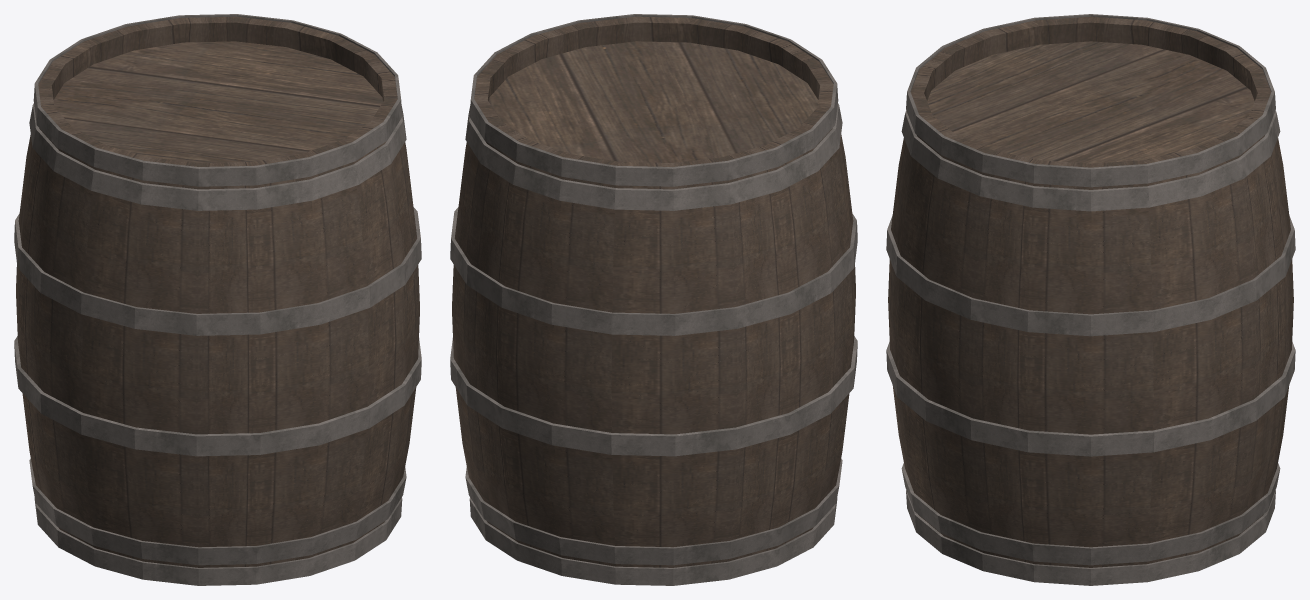
File: Barrel.fbx
3 renders of one model, left to right at view 1: azimuth 30°, elevation 25°; view 2: azimuth 150°, elevation 25°; view 3: azimuth 270°, elevation 25°, orthographic.
Visible parts, largest first — view 1: pCylinder1; view 2: pCylinder1; view 3: pCylinder1.
Boxes of the visible parts, x1,y1,x2,y2 form: pCylinder1: [14, 14, 421, 585]; pCylinder1: [450, 14, 857, 585]; pCylinder1: [886, 14, 1295, 585].
Bounding box in the file's own units: 139 × 156 × 139.
Materials: 1 (1 with a texture image).
